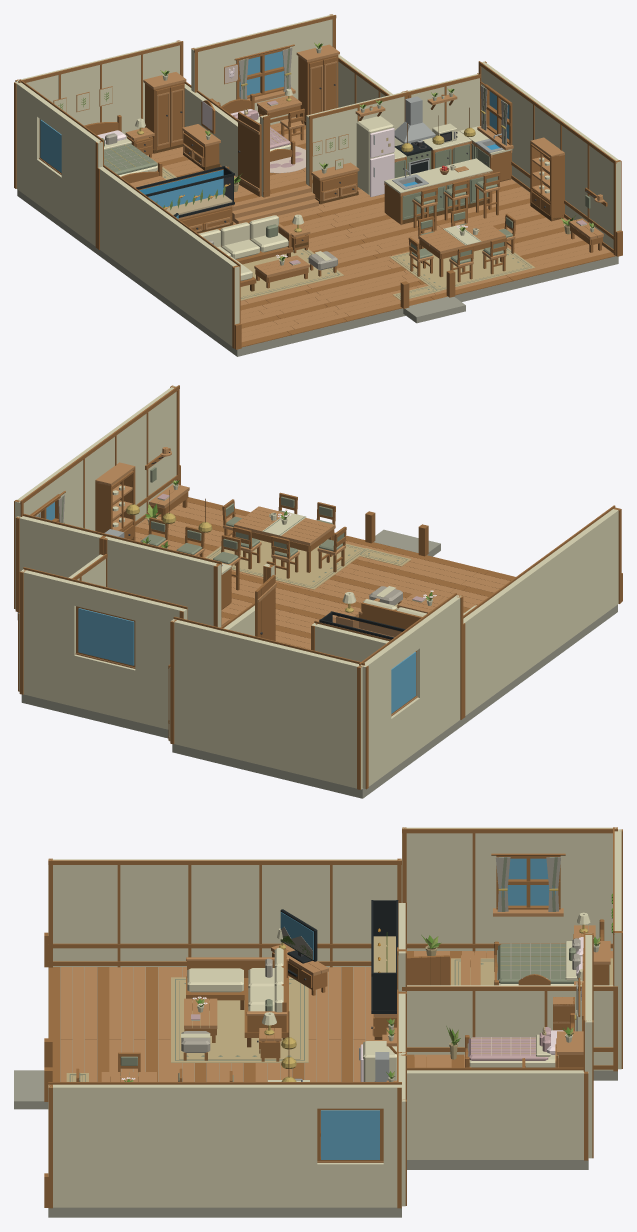
File: HouseInterior_Lv5.fbx
The picture shows the model from 3 angles, top to bottom: view 1: azimuth 30°, elevation 25°; view 2: azimuth 150°, elevation 25°; view 3: azimuth 270°, elevation 25°; orthographic projection. The views are drawn at different scales.
Visible parts, largest first — view 1: H_CommonFloor_Planks.001_FBX, H_LeftWall_Common.001_FBX, H_RightWall_Kitchen.001_FBX, H_LeftWall_Master.001_FBX, H_Pink_Back.001_FBX, H_Master_Back.001_FBX, H_Foundation_RaisedBedroomPlatforms.001_FBX, H_ThreeSteps_AndEntrance.001_FBX, H_Pink_Front_KitchenBackdrop.001_FBX, Lv5_K6_PanelledCounter_FBX, Lv5_T3_H_Sofa_L_Cream_FBX, Lv5_T2_Aquarium_Jumbo_FBX (+39 smaller); view 2: H_Master_Back.001_FBX, H_Pink_Back.001_FBX, H_LeftWall_Common.001_FBX, H_CommonFloor_Planks.001_FBX, H_LeftWall_Master.001_FBX, H_RightWall_Kitchen.001_FBX, H_Pink_Front_KitchenBackdrop.001_FBX, H_Foundation_RaisedBedroomPlatforms.001_FBX, H_Kitchen_Wing_Back.001_FBX, Lv5_R4_Rug_Dining6_FBX, Lv5_K10_H_Cupboard_Glass_FBX, Lv5_D1_Table_SixSeat_FBX (+12 smaller); view 3: H_RightWall_Kitchen.001_FBX, H_LeftWall_Common.001_FBX, H_LeftWall_Master.001_FBX, H_CommonFloor_Planks.001_FBX, H_Pink_Right.001_FBX, H_SharedRoomDivider.001_FBX, H_Foundation_RaisedBedroomPlatforms.001_FBX, Lv5_T3_H_Sofa_L_Cream_FBX, Lv5_R3_Rug_Lounge_FBX, Lv5_M1_Bed_Double_Rich_FBX, Lv5_T2_Aquarium_Jumbo_FBX, Lv5_C1_Bed_Child_Pink_FBX (+21 smaller).
Boxes of the visible parts, x1,y1,x2,y2 form: H_CommonFloor_Planks.001_FBX: (232, 179, 615, 347); H_LeftWall_Common.001_FBX: (97, 165, 240, 348); H_RightWall_Kitchen.001_FBX: (477, 61, 621, 255); H_LeftWall_Master.001_FBX: (14, 79, 103, 248); H_Pink_Back.001_FBX: (191, 14, 336, 124); H_Master_Back.001_FBX: (15, 40, 183, 137); H_Foundation_RaisedBedroomPlatforms.001_FBX: (17, 189, 618, 356); H_ThreeSteps_AndEntrance.001_FBX: (232, 185, 622, 349); H_Pink_Front_KitchenBackdrop.001_FBX: (306, 91, 408, 192); Lv5_K6_PanelledCounter_FBX: (384, 158, 492, 224); Lv5_T3_H_Sofa_L_Cream_FBX: (198, 214, 292, 291); Lv5_T2_Aquarium_Jumbo_FBX: (136, 166, 234, 217); H_Master_Back.001_FBX: (170, 616, 364, 789); H_Pink_Back.001_FBX: (19, 567, 187, 729); H_LeftWall_Common.001_FBX: (463, 505, 621, 718); H_CommonFloor_Planks.001_FBX: (135, 497, 515, 649); H_LeftWall_Master.001_FBX: (359, 593, 463, 789); H_RightWall_Kitchen.001_FBX: (14, 385, 179, 609); H_Pink_Front_KitchenBackdrop.001_FBX: (103, 534, 221, 627); H_Foundation_RaisedBedroomPlatforms.001_FBX: (17, 604, 617, 798); H_Kitchen_Wing_Back.001_FBX: (15, 514, 106, 612); Lv5_R4_Rug_Dining6_FBX: (205, 539, 368, 589); Lv5_K10_H_Cupboard_Glass_FBX: (95, 462, 135, 540); Lv5_D1_Table_SixSeat_FBX: (234, 506, 334, 572); H_RightWall_Kitchen.001_FBX: (48, 1082, 401, 1208); H_LeftWall_Common.001_FBX: (48, 858, 401, 967); H_LeftWall_Master.001_FBX: (402, 827, 617, 952); H_CommonFloor_Planks.001_FBX: (48, 967, 374, 1081); H_Pink_Right.001_FBX: (405, 1067, 588, 1160); H_SharedRoomDivider.001_FBX: (402, 985, 617, 1071); H_Foundation_RaisedBedroomPlatforms.001_FBX: (48, 953, 617, 1217); Lv5_T3_H_Sofa_L_Cream_FBX: (186, 948, 288, 1047); Lv5_R3_Rug_Lounge_FBX: (171, 977, 308, 1062); Lv5_M1_Bed_Double_Rich_FBX: (494, 919, 604, 985); Lv5_T2_Aquarium_Jumbo_FBX: (371, 900, 398, 1013); Lv5_C1_Bed_Child_Pink_FBX: (465, 1013, 574, 1067).
Size of the model in its own units: 11.8 by 3.37 by 12.4.
